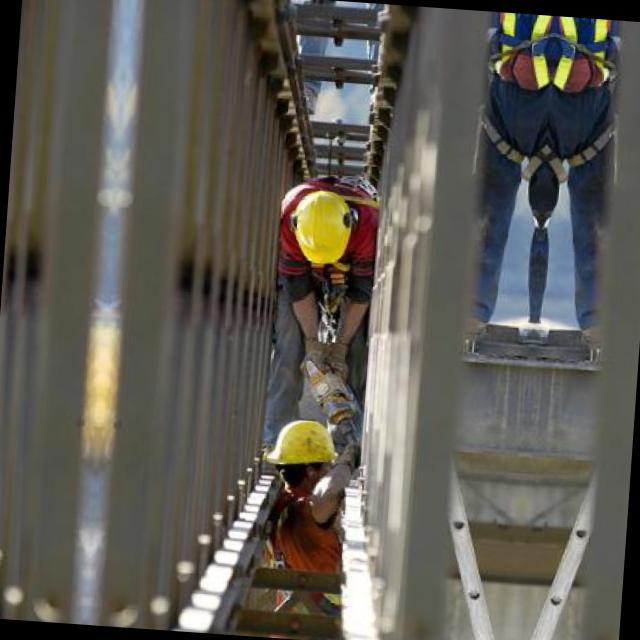helmet: (271, 172, 368, 305), (253, 403, 346, 503)
